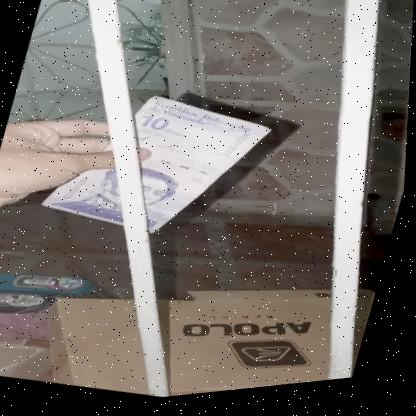ten-front-vef: (37, 69, 282, 267)
